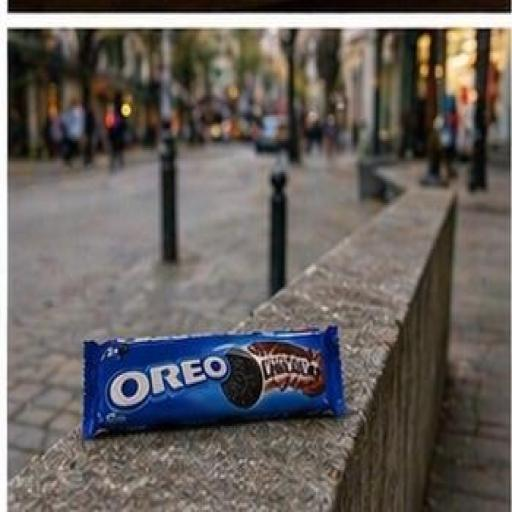oreo: (58, 304, 402, 471)
